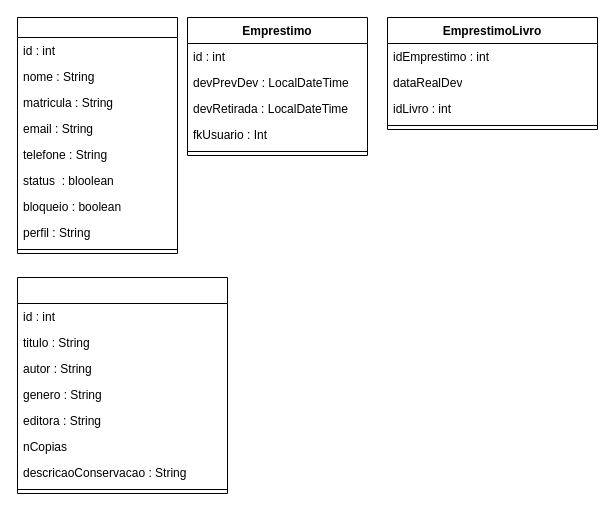
This 615x511 diagram has some shape labels left out. Each missing label, with the box of its shape:
livro: (16, 276, 228, 494)
Usuario: (16, 16, 178, 254)
